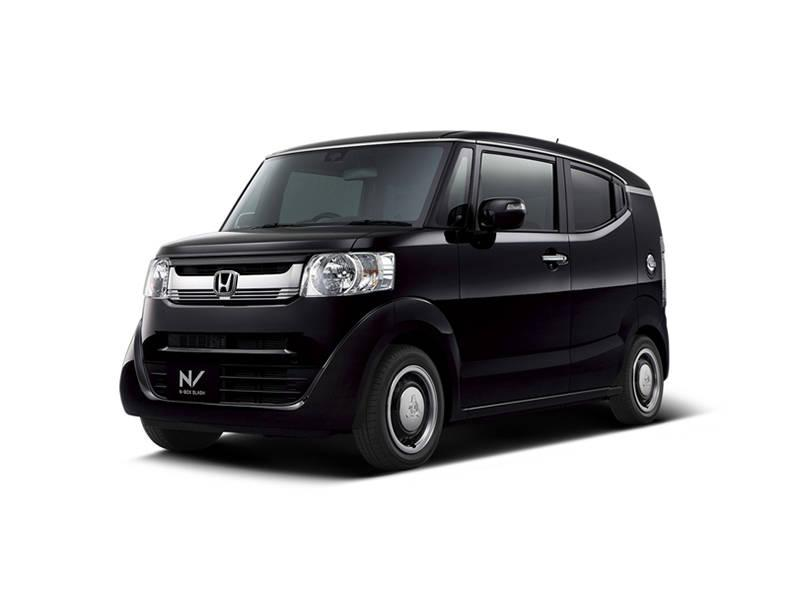Hatchback: (107, 103, 690, 487)
